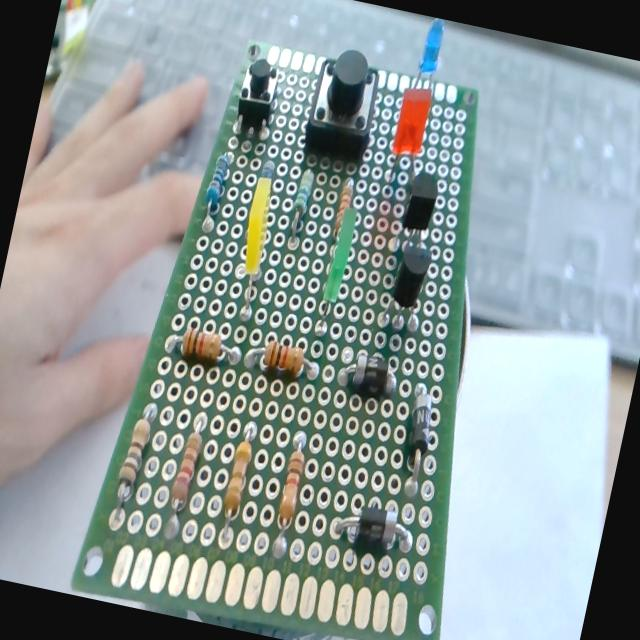diode: (384, 371, 446, 501), (326, 492, 424, 564), (330, 343, 406, 410)
led: (224, 174, 286, 326), (375, 80, 439, 186), (314, 204, 362, 330), (406, 15, 454, 101)
resistor: (154, 394, 213, 549), (262, 414, 320, 570), (105, 384, 163, 536), (206, 406, 262, 556), (238, 329, 330, 394), (156, 312, 246, 374), (192, 143, 235, 240), (280, 162, 321, 250), (328, 172, 356, 238)
switch: (286, 36, 399, 172), (230, 50, 286, 134)
transistor: (368, 238, 442, 338), (386, 165, 452, 260)
